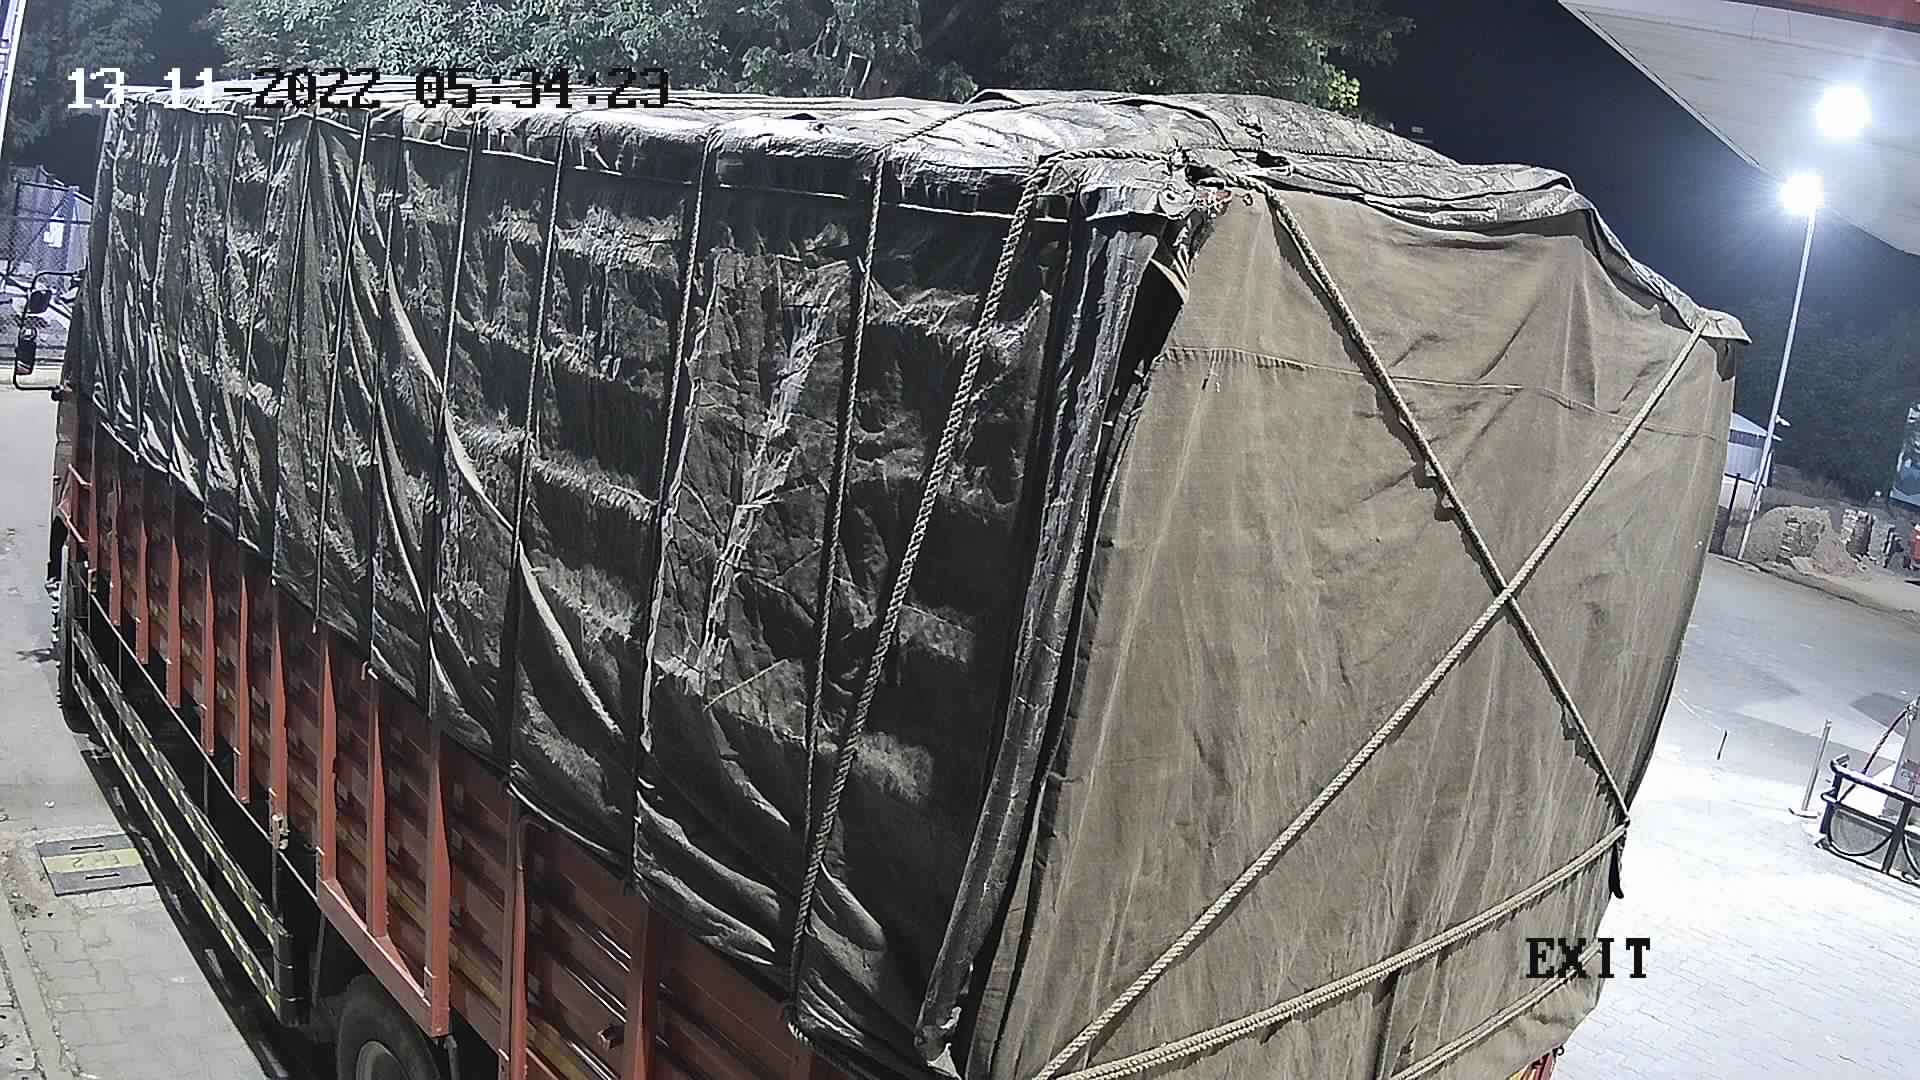HMV: (4, 59, 1767, 1077)
